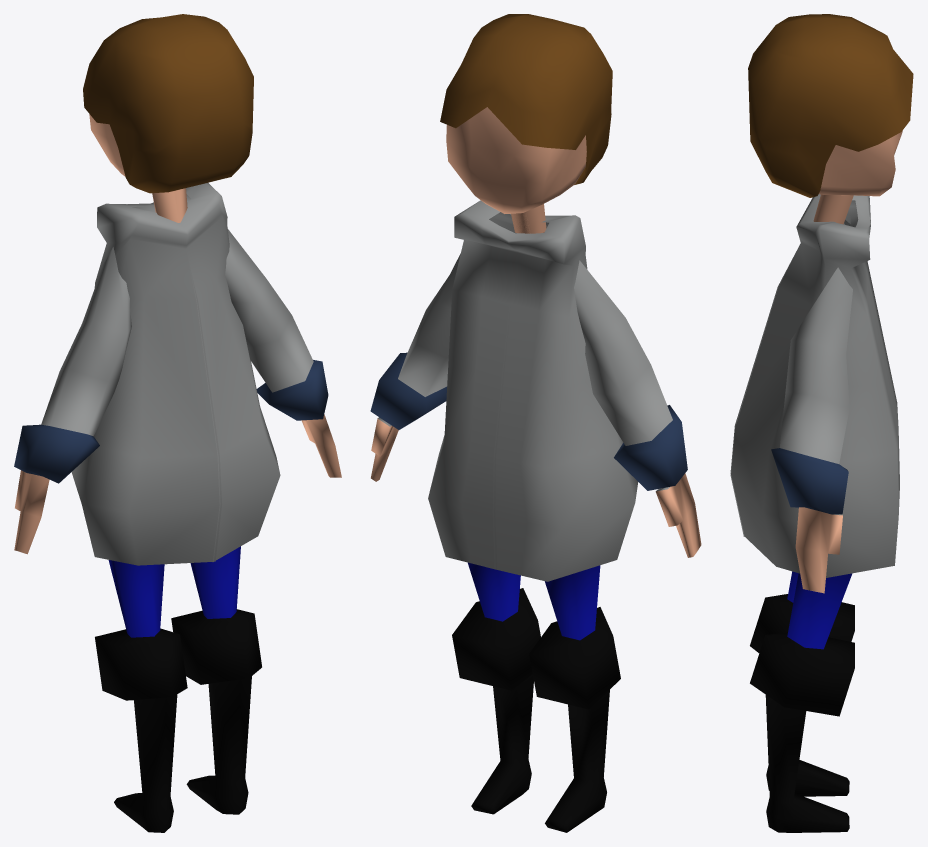
The model's file is Player.fbx.
The picture shows the model from 3 angles, left to right: view 1: azimuth 30°, elevation 25°; view 2: azimuth 150°, elevation 25°; view 3: azimuth 270°, elevation 25°; orthographic projection.
Parts seen in each view (by area): view 1: Player; view 2: Player; view 3: Player.
Part boxes in pixels (x1=…): Player: x1=14, y1=14, x2=341, y2=832; Player: x1=370, y1=14, x2=701, y2=832; Player: x1=730, y1=14, x2=913, y2=832.
Size of the model in its own units: 341 by 796 by 169.
